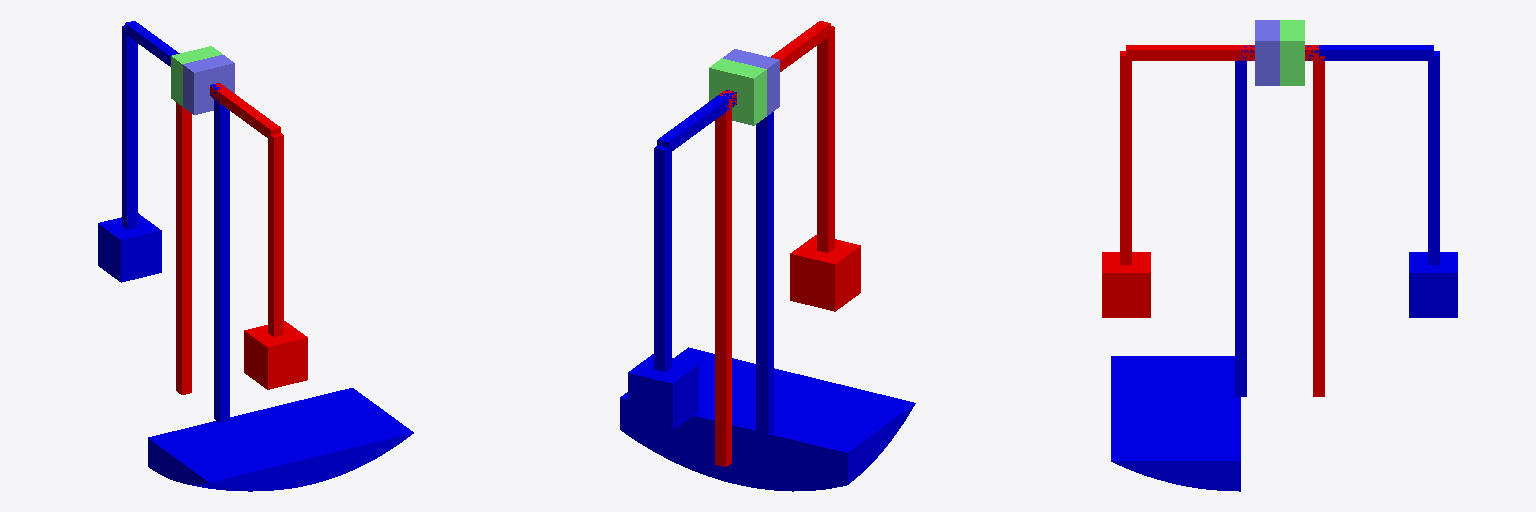
robot.urdf — stick_bot:
<robot name="stick_bot">

    <link name="left_leg">

        <visual>
            <origin xyz="0 0.005 0" rpy="0 0 0"/>
            <!-- <box size="0 mot_y/2 0"/> -->
            <geometry> <box size="0.02 0.01 0.02"/> </geometry>
            <!-- <box size="mot_x mot_y mot_z"/> -->
            <material> <color rgba="0.5 1 0.5 0.5" /> </material>
        </visual>

        <visual>
            <origin xyz="0 0.008 0" rpy="0 0 0"/>
            <!-- <origin xyz="0 gap_ft/4 0" rpy="0 0 0"/> -->
            <geometry> <box size="0.005 0.016 0.005"/> </geometry>
            <!-- <geometry> <box size="s gap_ft/2 s"/> </geometry> -->
            <material> <color rgba="1 0 0 0.5" /> </material>
        </visual>

        <visual>
            <origin xyz="0 -0.03125 0" rpy="0 0 0"/>
            <!-- <origin xyz="0 -w_arm/2 0" rpy="0 0 0"/> -->
            <geometry> <box size="0.005 0.0625 0.005"/> </geometry>
            <!-- <geometry> <box size="s w_arm s"/> </geometry> -->
            <material> <color rgba="1 0 0 0.75" /> </material>
        </visual>

        <visual>
            <origin xyz="0 -0.0625 -0.052" rpy="0 0 0"/>
            <!-- <origin xyz="0 -w_arm -l_arm/2" rpy="0 0 0"/> -->
            <geometry> <box size="0.005 0.005 0.104"/> </geometry>
            <!-- <geometry> <box size="s s l_arm"/> </geometry> -->
            <material> <color rgba="1 0 0 0.5" /> </material>
        </visual>

        <visual>
            <origin xyz="0 -0.0625 -0.104" rpy="0 0 0"/>
            <!-- <origin xyz="0 -w_arm -l_arm" rpy="0 0 0"/> -->
            <geometry> <box size="0.02 0.02 0.02"/> </geometry>
            <!-- <geometry> <box size="s_hand s_hand s_hand"/> </geometry> -->
            <material> <color rgba="1 0 0 0.5" /> </material>
        </visual>

        <visual>
            <origin xyz="0 0.016 -0.0765" rpy="0 0 0"/>
            <!-- <origin xyz="0 gap_ft/2 -l_leg/2" rpy="0 0 0"/> -->
            <geometry> <box size="0.005 0.005 0.153"/> </geometry>
            <!-- <geometry> <box size="s s l_leg"/> </geometry> -->
            <material> <color rgba="1 0 0 0.5" /> </material>
        </visual>

        <visual>
            <origin xyz="0.014 0.016 -0.153" rpy="0 0 0"/>
            <!-- <origin xyz="-hip_offset gap_ft/2 -l_leg" rpy="0 0 0"/> -->
            <geometry> <mesh filename="X_0.24_Y_0.24_Z_0.24_box_x_0.101_box_y_0.0527/left_foot_geom.obj" /> </geometry>
            <material> <color rgba="1 0 0 0.5" /> </material>
        </visual>

    </link>
    
    <link name="right_leg">

        <visual>
            <origin xyz="0 -0.005 0" rpy="0 0 0"/>
            <!-- <box size="0 -mot_y/2 0"/> -->
            <geometry> <box size="0.02 0.01 0.02"/> </geometry>
            <!-- <box size="mot_x mot_y mot_z"/> -->
            <material> <color rgba="0.5 0.5 1 0.5" /> </material>
        </visual>

        <visual>
            <origin xyz="0 -0.008 0" rpy="0 0 0"/>
            <!-- <origin xyz="0 -gap_ft/4 0" rpy="0 0 0"/> -->
            <geometry> <box size="0.005 0.016 0.005"/> </geometry>
            <!-- <geometry> <box size="s gap_ft/2 s"/> </geometry> -->
            <material> <color rgba="0 0 1 0.5" /> </material>
        </visual>

        <visual>
            <origin xyz="0 0.03125 0" rpy="0 0 0"/>
            <!-- <origin xyz="0 w_arm/2 0" rpy="0 0 0"/> -->
            <geometry> <box size="0.005 0.0625 0.005"/> </geometry>
            <!-- <geometry> <box size="s w_arm s"/> </geometry> -->
            <material> <color rgba="0 0 1 0.75" /> </material>
        </visual>

        <visual>
            <origin xyz="0 0.0625 -0.052" rpy="0 0 0"/>
            <!-- <origin xyz="0 w_arm/2 -l_arm/2" rpy="0 0 0"/> -->
            <geometry> <box size="0.005 0.005 0.104"/> </geometry>
            <!-- <geometry> <box size="s s l_arm"/> </geometry> -->
            <material> <color rgba="0 0 1 0.5" /> </material>
        </visual>

        <visual>
            <origin xyz="0 0.0625 -0.104" rpy="0 0 0"/>
            <!-- <origin xyz="0 w_arm/2 -l_arm" rpy="0 0 0"/> -->
            <geometry> <box size="0.02 0.02 0.02"/> </geometry>
            <!-- <geometry> <box size="s_hand s_hand s_hand"/> </geometry> -->
            <material> <color rgba="0 0 1 0.5" /> </material>
        </visual>

        <visual>
            <origin xyz="0 -0.016 -0.0765" rpy="0 0 0"/>
            <!-- <origin xyz="0 -gap_ft/2 -l_leg/2" rpy="0 0 0"/> -->
            <geometry> <box size="0.005 0.005 0.153"/> </geometry>
            <!-- <geometry> <box size="s s l_leg"/> </geometry> -->
            <material> <color rgba="0 0 1 0.5" /> </material>
        </visual>

        <visual>
            <origin xyz="0.014 -0.016 -0.153" rpy="0 0 0"/>
            <!-- <origin xyz="-hip_offset -gap_ft/2 -l_leg" rpy="0 0 0"/> -->
            <geometry> <mesh filename="X_0.24_Y_0.24_Z_0.24_box_x_0.101_box_y_0.0527/right_foot_geom.obj" /> </geometry>
            <material> <color rgba="0 0 1 0.5" /> </material>
        </visual>

    </link>

    <joint name="hip" type="revolute">
        <origin xyz="0 0 0" rpy = "0 0 0"/>
        <parent link="left_leg" />
        <child link="right_leg" />
        <axis xyz="0 1 0" />
        <limit lower="-0.785398163397448279" upper="0.785398163397448279" />
  </joint>

</robot>

--- Render facts (derived) ---
The picture shows the robot from 3 angles, left to right: view 1: azimuth 30°, elevation 25°; view 2: azimuth 150°, elevation 25°; view 3: azimuth 270°, elevation 25°; orthographic projection.
Robot: stick_bot — 2 links, 1 joints (1 revolute); root link left_leg; default pose: every joint at zero.
Links seen in each view (by area): view 1: right_leg, left_leg; view 2: right_leg, left_leg; view 3: right_leg, left_leg.
Link boxes in pixels (box(x1,y1,x2,y2)): right_leg: box(98, 21, 413, 491); left_leg: box(171, 46, 307, 394); right_leg: box(620, 49, 915, 491); left_leg: box(709, 21, 860, 466); right_leg: box(1111, 20, 1457, 491); left_leg: box(1102, 20, 1324, 396).
Bounding box of the posed robot: 0.101 × 0.145 × 0.1878 m (x, y, z).
1 mesh visuals loaded from 2 distinct referenced files (1 OBJ); not drawn: 1 (reference not matched to a file when rendering).
